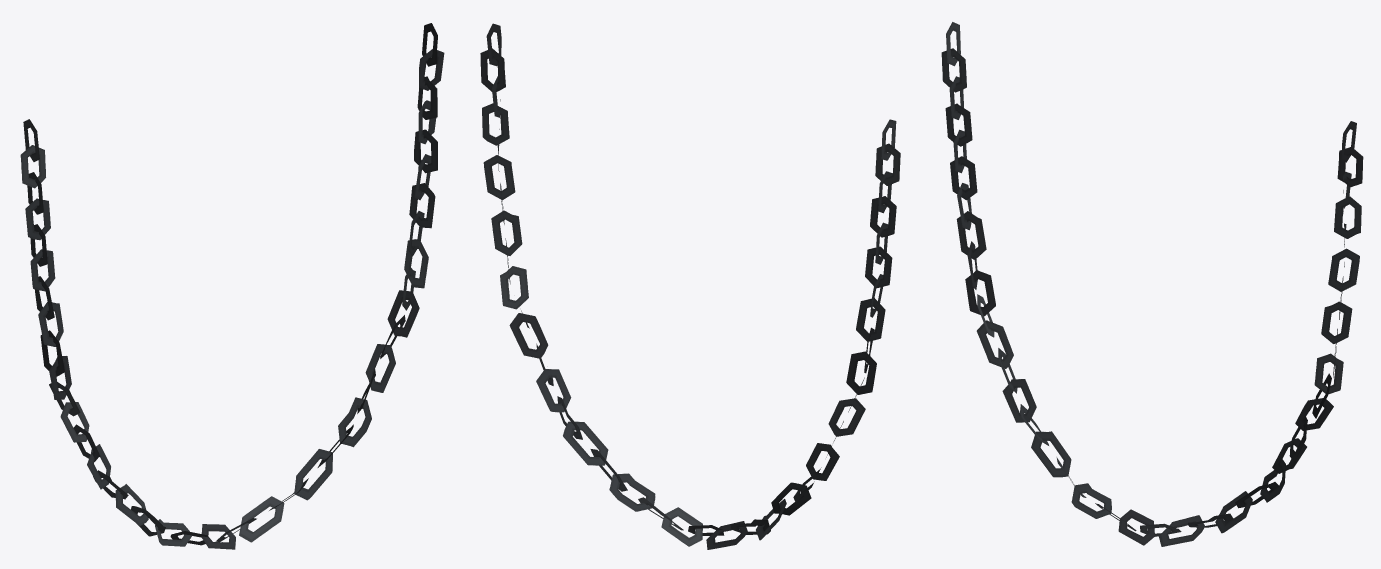
Rendered from SM_Prop_Chain_03a.fbx.
The picture shows the model from 3 angles, left to right: view 1: azimuth 30°, elevation 25°; view 2: azimuth 150°, elevation 25°; view 3: azimuth 330°, elevation 25°; orthographic projection.
Visible parts, largest first — view 1: SM_Prop_Chain_03a; view 2: SM_Prop_Chain_03a; view 3: SM_Prop_Chain_03a.
Part boxes in pixels (left/top/right/bottom): SM_Prop_Chain_03a: left=20, top=23, right=444, bottom=549; SM_Prop_Chain_03a: left=480, top=23, right=900, bottom=549; SM_Prop_Chain_03a: left=941, top=22, right=1363, bottom=546.
Bounding box in the file's own units: 135 × 144 × 10.12.
